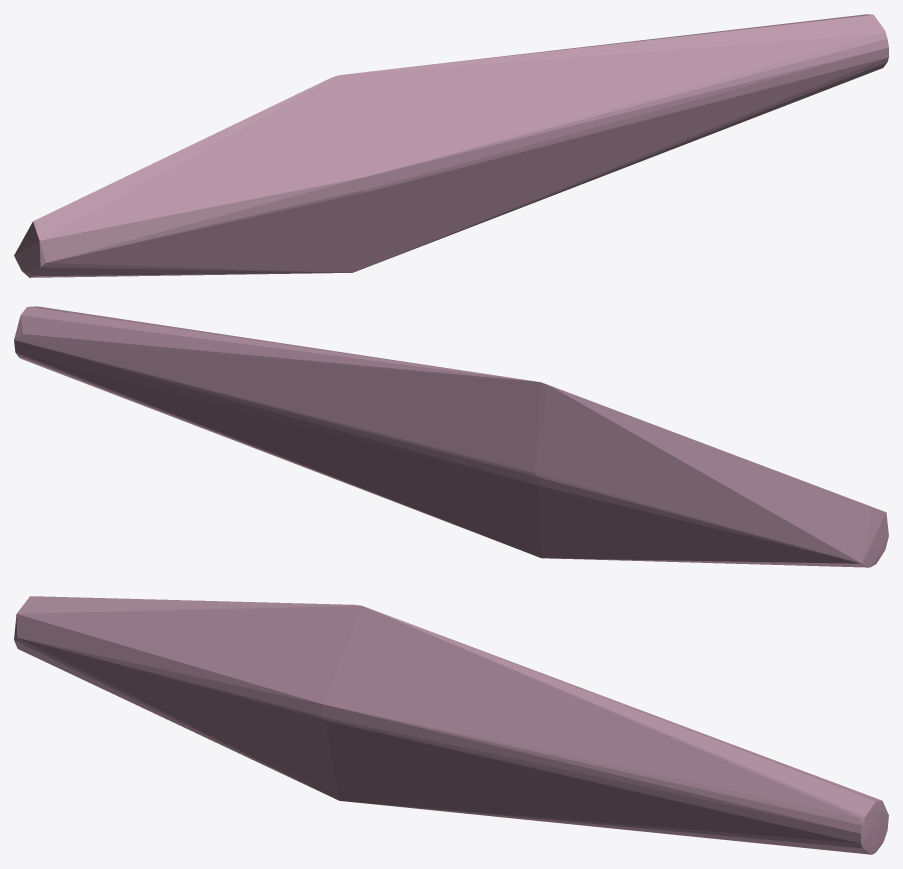
File: syringe_insulin_b01.glb
3 renders of one model, top to bottom at view 1: azimuth 30°, elevation 25°; view 2: azimuth 150°, elevation 25°; view 3: azimuth 330°, elevation 25°, orthographic.
Parts seen in each view (by area): view 1: geometry_0; view 2: geometry_0; view 3: geometry_0.
Boxes of the visible parts, x1=… form: geometry_0: x1=14, y1=14, x2=888, y2=277; geometry_0: x1=14, y1=306, x2=888, y2=567; geometry_0: x1=14, y1=596, x2=888, y2=854.
Bounding box in the file's own units: 0.4799 × 0.0987 × 0.0421.
